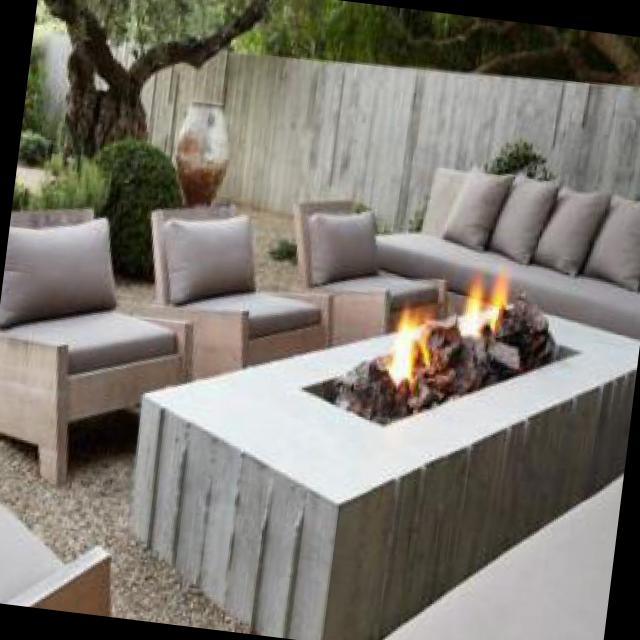fire: (373, 248, 533, 408)
